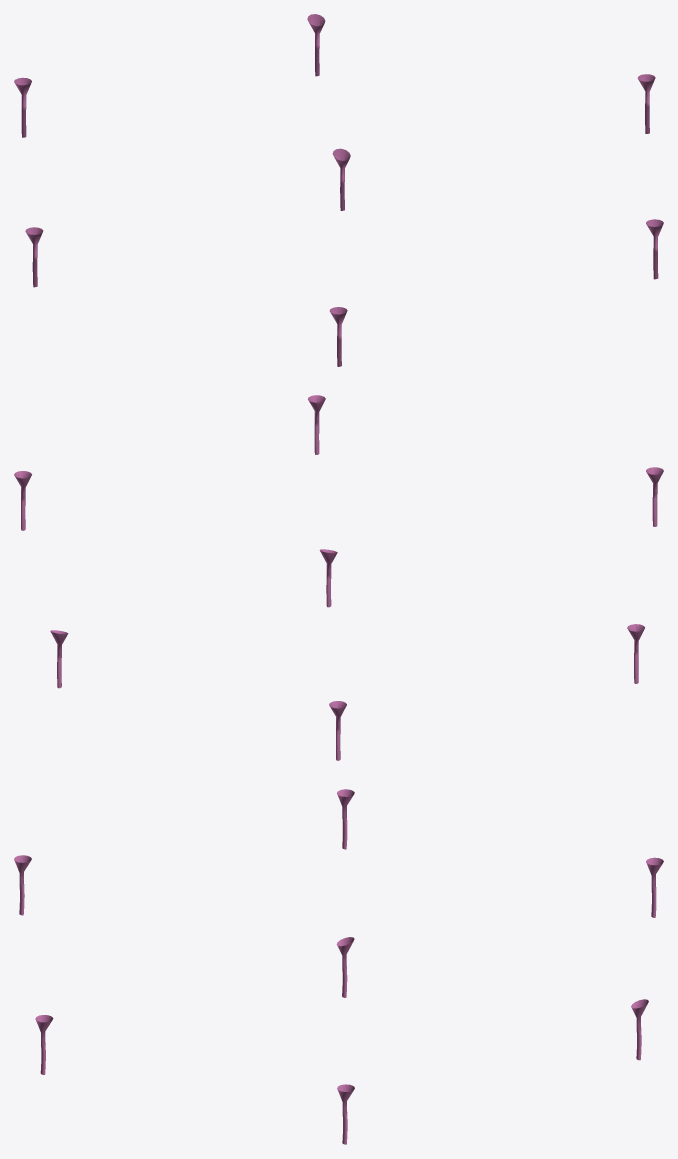
The model's file is TubosNeurons.fbx.
3 views of the same model, one above another, from view 1: azimuth 30°, elevation 25°; view 2: azimuth 150°, elevation 25°; view 3: azimuth 270°, elevation 25° (orthographic).
Parts seen in each view (by area): view 1: NurbsPath.002; view 2: NurbsPath.002; view 3: NurbsPath.002.
Part boxes in pixels (<box>): NurbsPath.002: <box>14,14,663,366</box>; NurbsPath.002: <box>14,395,663,760</box>; NurbsPath.002: <box>14,789,663,1144</box>.
Size of the model in its own units: 654 by 60.93 by 586.
